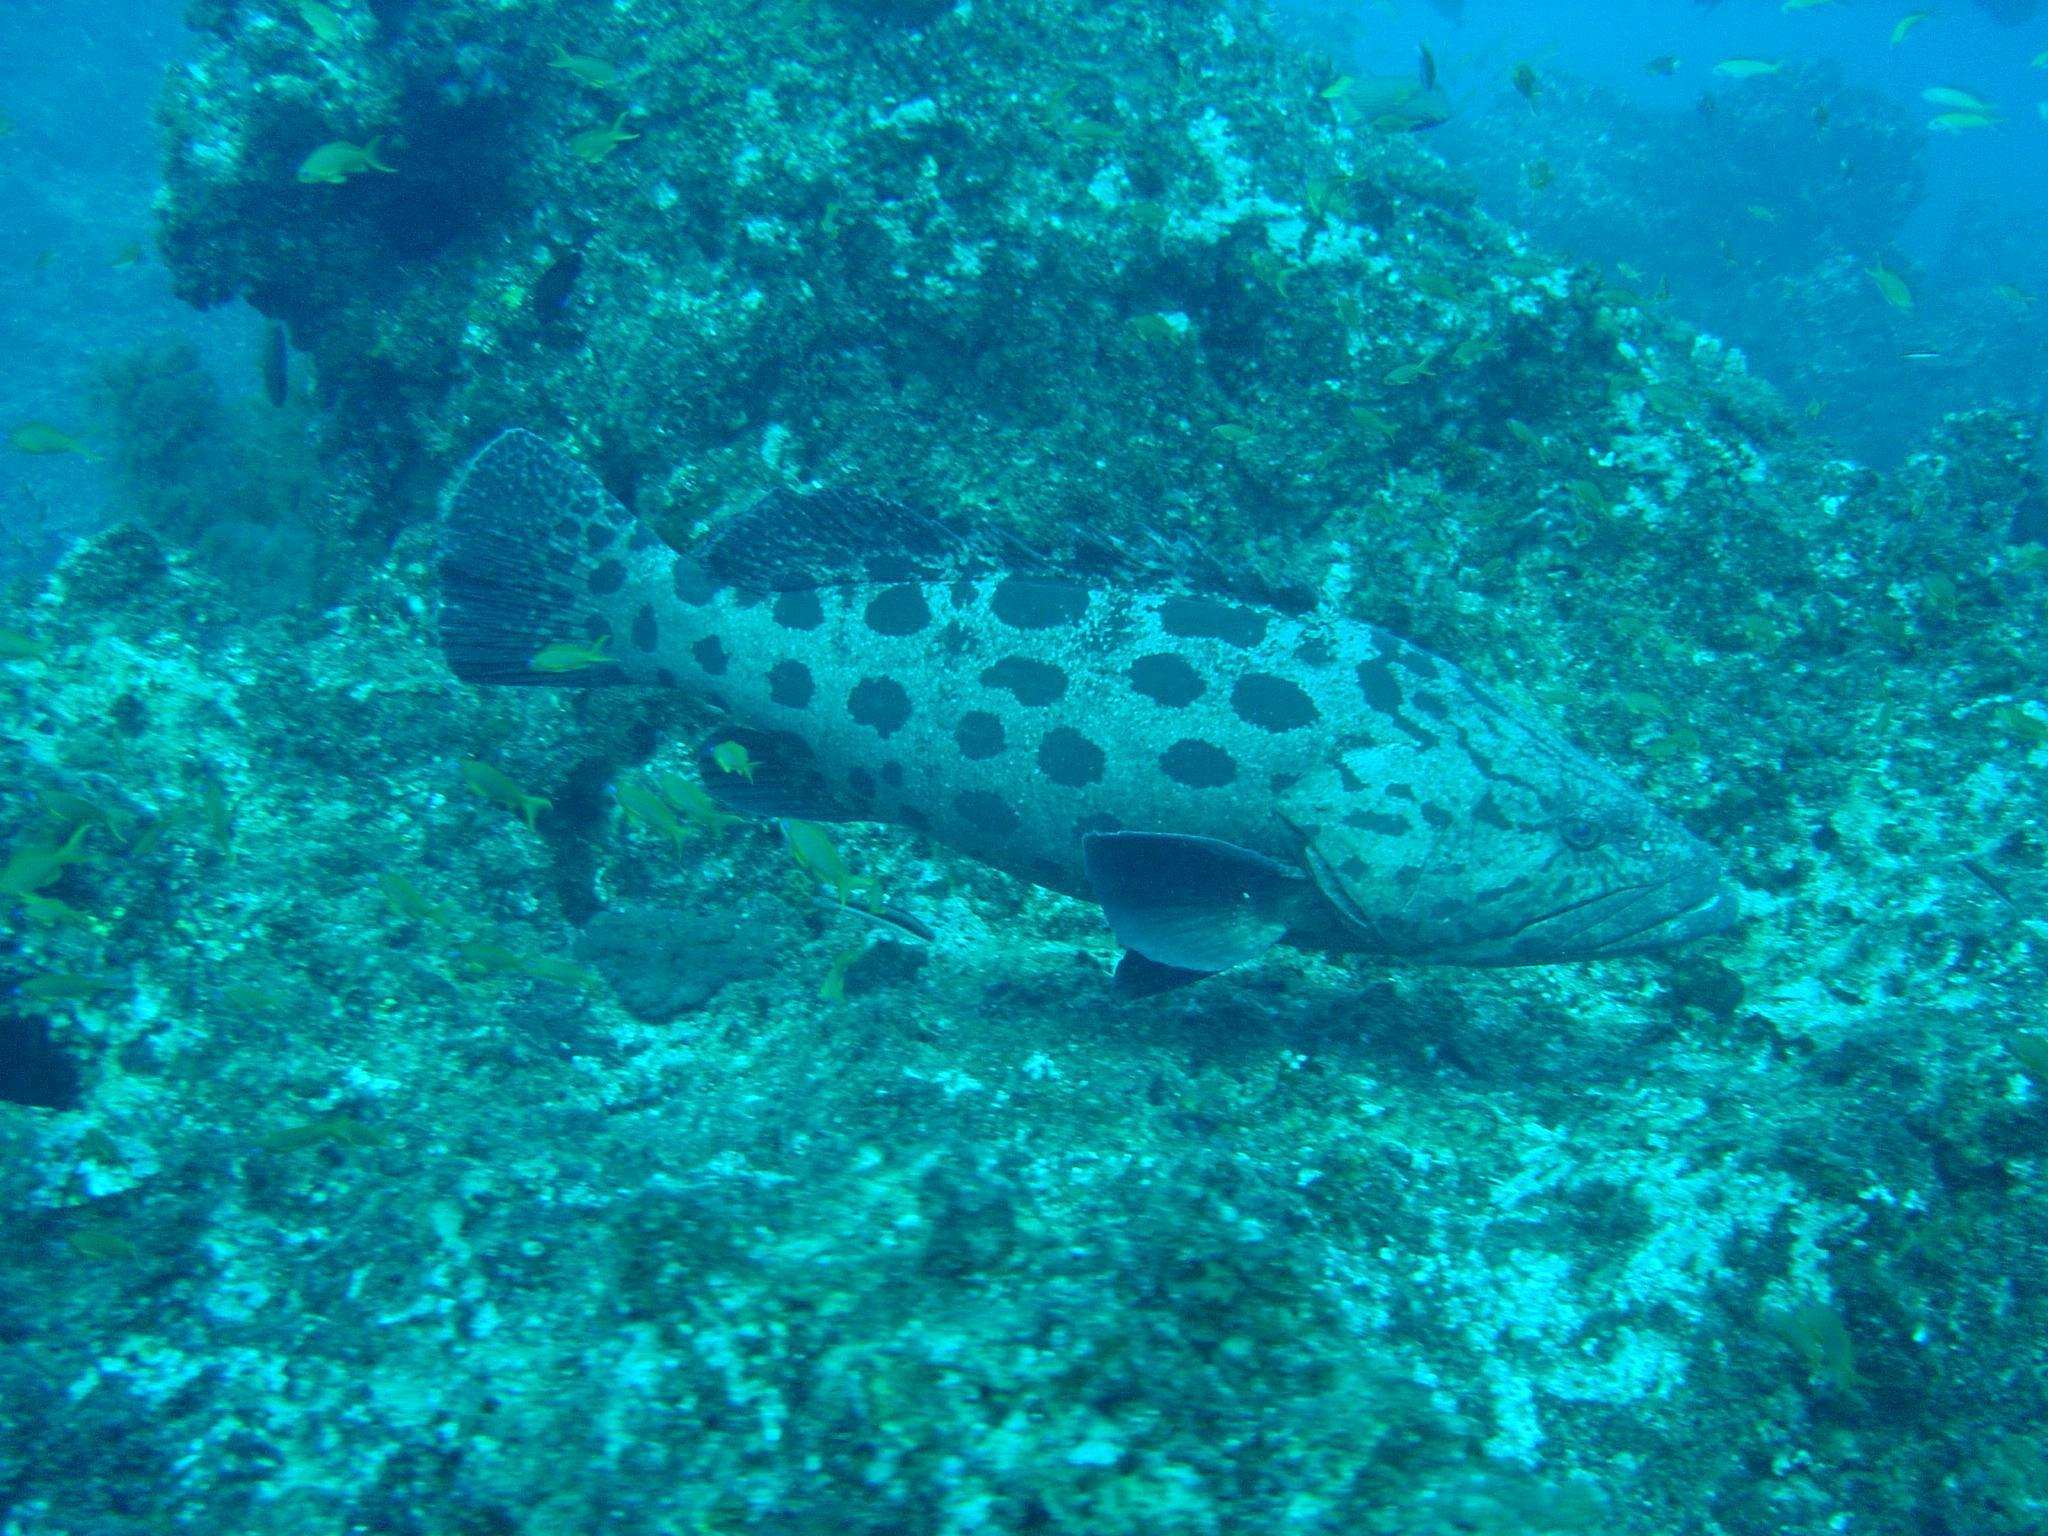Fish: (390, 432, 1795, 1052)
